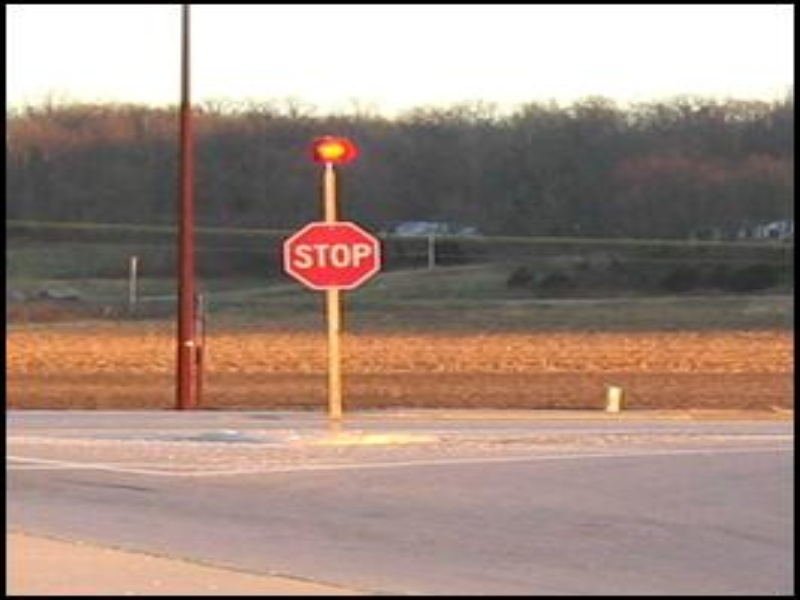stop sign: (278, 217, 388, 297)
